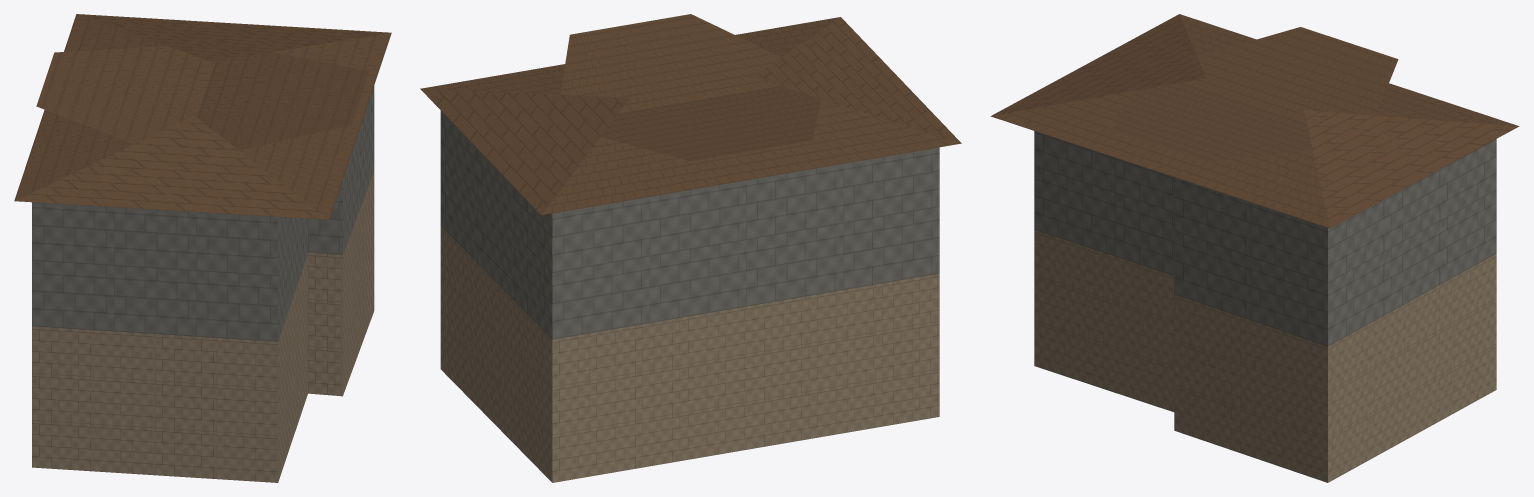
The model's file is bld_c40_48_191.gltf.
3 renders of one model, left to right at view 1: azimuth 30°, elevation 25°; view 2: azimuth 150°, elevation 25°; view 3: azimuth 270°, elevation 25°, orthographic. The views are drawn at different scales.
Parts seen in each view (by area): view 1: bld_c40_48_191; view 2: bld_c40_48_191; view 3: bld_c40_48_191.
Part boxes in pixels (x1,y1,x2,y2): bld_c40_48_191: (14,14,391,482); bld_c40_48_191: (420,14,961,482); bld_c40_48_191: (990,14,1519,482).
Size of the model in its own units: 16.97 by 10.7 by 17.68.
Materials: 3 (3 with a texture image).
